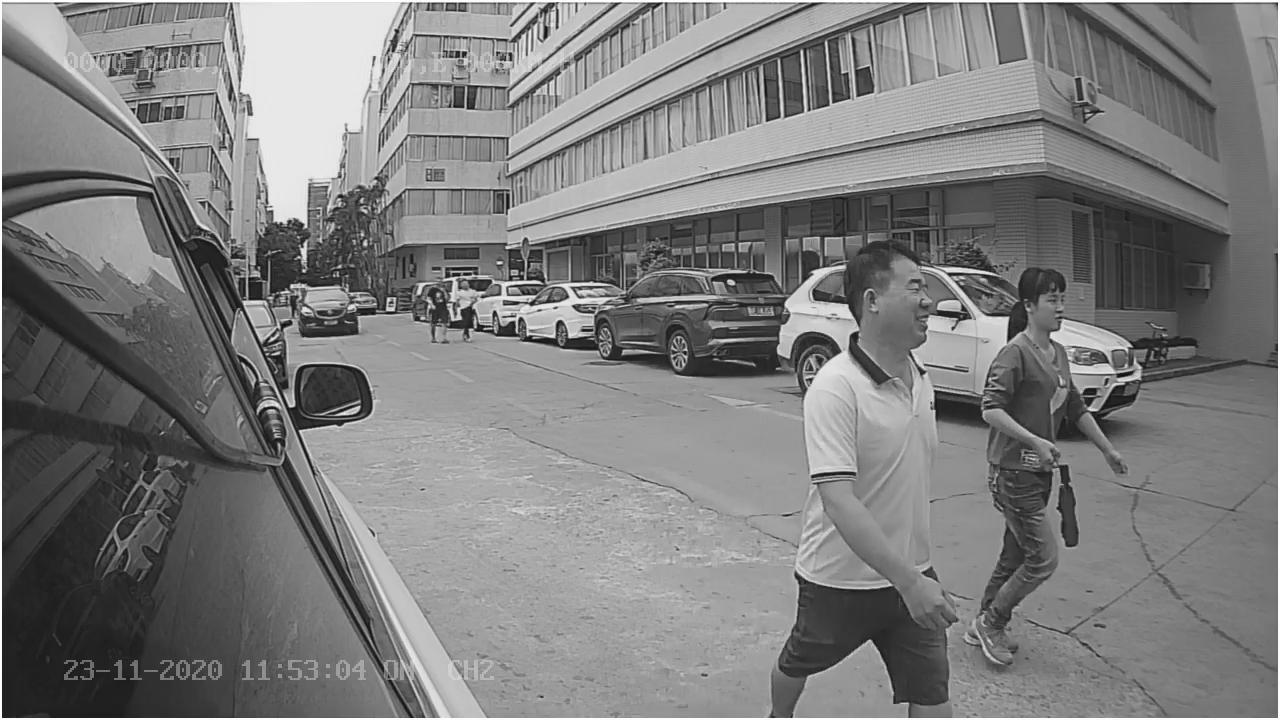person: (795, 244, 958, 706), (975, 257, 1080, 683)
